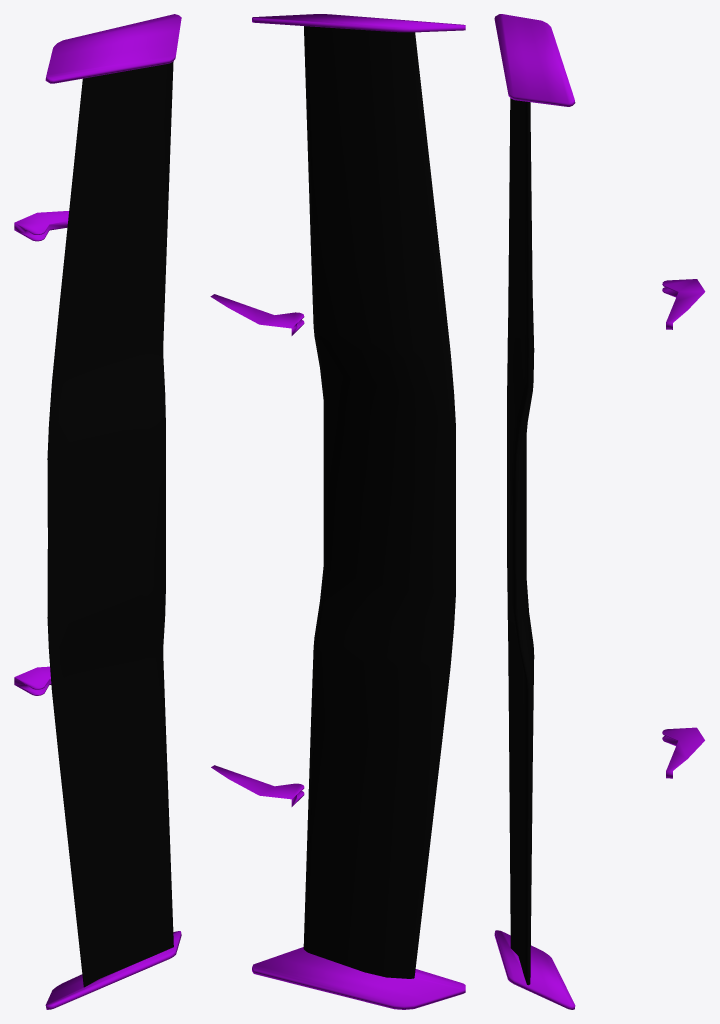
The model's file is spoiler.glb.
3 renders of one model, left to right at view 1: azimuth 30°, elevation 25°; view 2: azimuth 150°, elevation 25°; view 3: azimuth 270°, elevation 25°, orthographic. The views are drawn at different scales.
Parts seen in each view (by area): view 1: spoiler; view 2: spoiler; view 3: spoiler.
Boxes of the visible parts, left/top/right/bottom form: spoiler: left=14, top=14, right=181, bottom=1009; spoiler: left=210, top=14, right=465, bottom=1009; spoiler: left=494, top=14, right=705, bottom=1009.
Size of the model in its own units: 0.1855 by 0.9851 by 0.2014.
